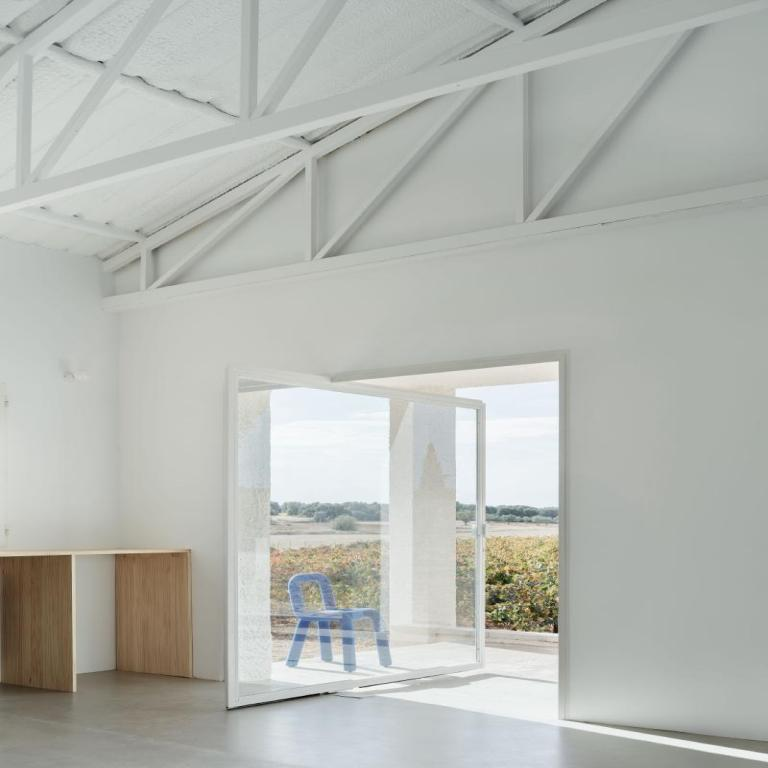white-walls: (272, 228, 756, 731)
